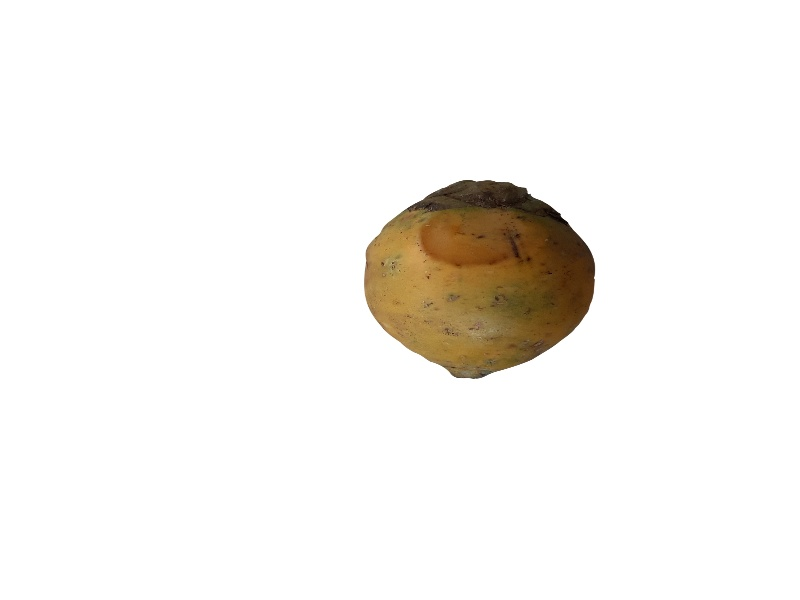arecanut: (353, 171, 600, 383)
